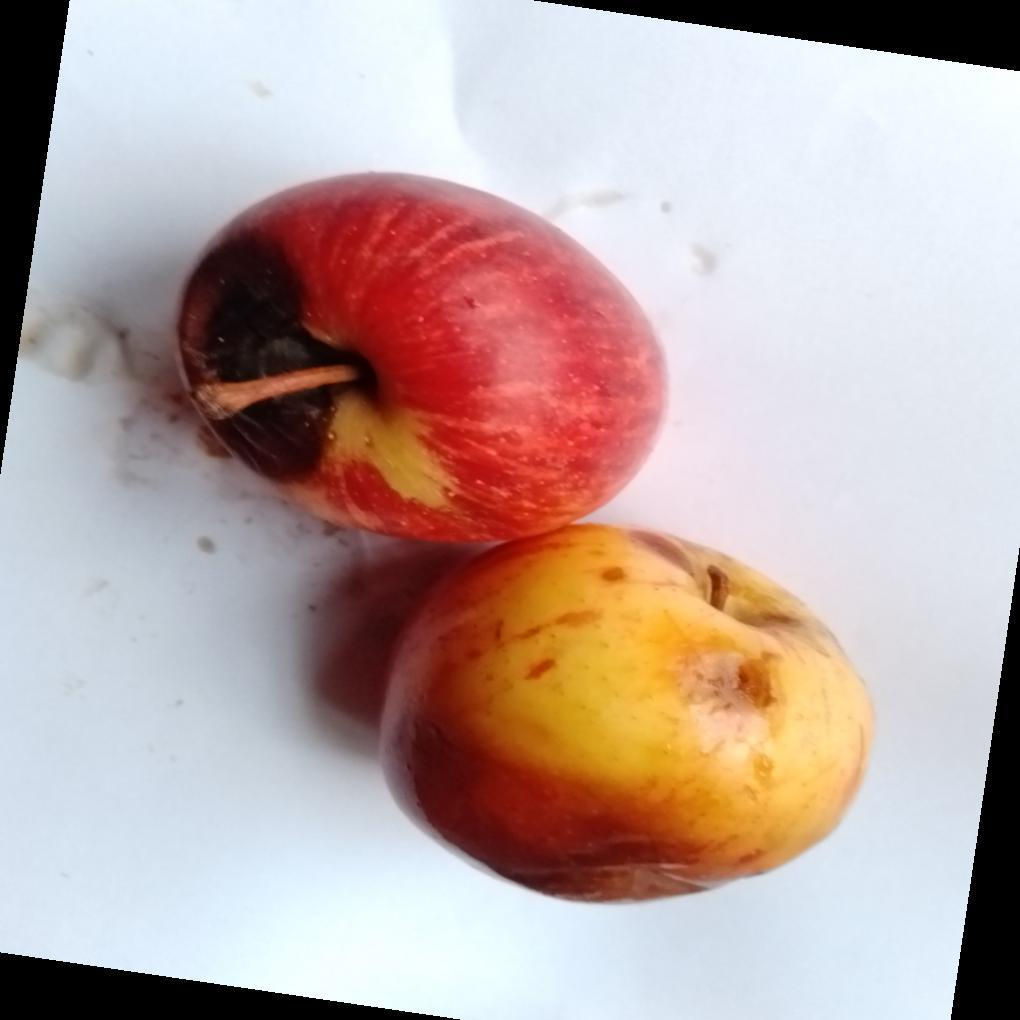FreshOrange: (173, 173, 876, 907)
